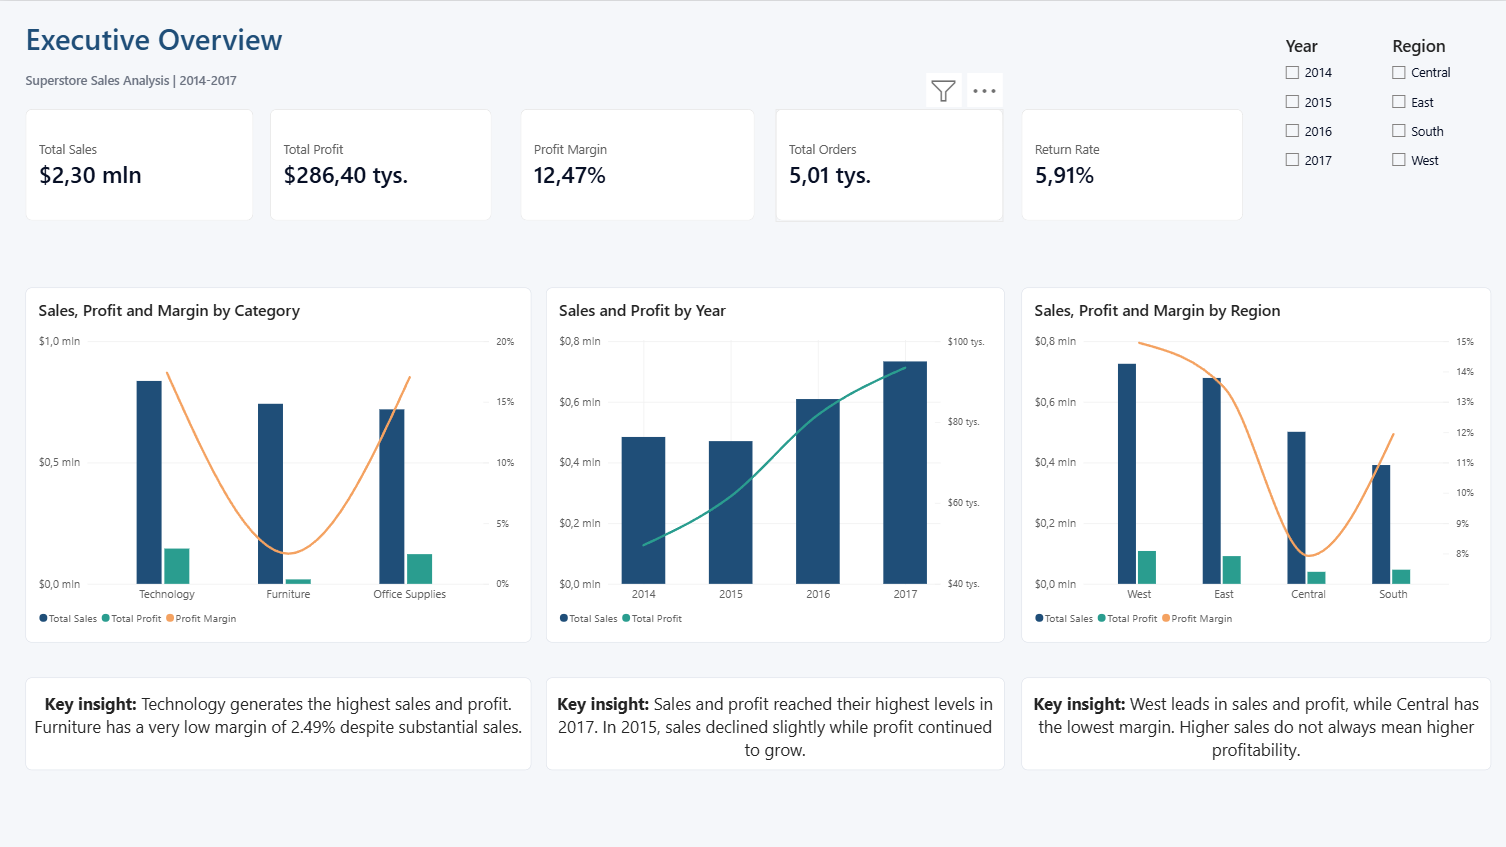

Layout of this report page (visuals, bound fields, positions):
{"tool":"powerbi","page":{"name":"Executive Overview","canvas":[1920,1080],"ordinal":0},"visuals":[{"type":"cardVisual","fields":{"Data":["_Measures.Total Sales"]},"box":[32,138,290,142],"z":0},{"type":"cardVisual","fields":{"Data":["_Measures.Total Profit"]},"box":[344,138,282,142],"z":1000},{"type":"cardVisual","fields":{"Data":["_Measures.Profit Margin"]},"box":[662,138,298,142],"z":2000},{"type":"cardVisual","fields":{"Data":["_Measures.Total Orders"]},"box":[988,138,290,142],"z":3000},{"type":"cardVisual","fields":{"Data":["_Measures.Return Rate"]},"box":[1300,138,282,142],"z":4000},{"type":"lineClusteredColumnComboChart","title":"Sales and Profit by Year","fields":{"Category":["Calendar.Year"],"Y":["_Measures.Total Sales"],"Y2":["_Measures.Total Profit"]},"box":[696,364,584,452],"z":5000},{"type":"lineClusteredColumnComboChart","title":"Sales, Profit and Margin by Region","fields":{"Category":["people.region"],"Y":["_Measures.Total Sales","_Measures.Total Profit"],"Y2":["_Measures.Profit Margin"]},"box":[1300,364,598,452],"z":6000},{"type":"lineClusteredColumnComboChart","title":"Sales, Profit and Margin by Category ","fields":{"Category":["orders.category"],"Y":["_Measures.Total Sales","_Measures.Total Profit"],"Y2":["_Measures.Profit Margin"]},"box":[32,364,644,452],"z":7000},{"type":"slicer","fields":{"Values":["Calendar.Year"]},"box":[1630,42,126,204],"z":8000},{"type":"slicer","fields":{"Values":["people.region"]},"box":[1764,42,130,198],"z":9000},{"type":"textbox","box":[32,22,416,96],"z":10000},{"type":"textbox","box":[32,862,644,118],"z":11000},{"type":"textbox","box":[696,862,584,118],"z":12000},{"type":"textbox","box":[1300,862,598,118],"z":13000}]}

Visuals, with their boxes in screenshot pixels (x1, y1, x2, y2), scaled from the page's 1920x1080 canvas onto the 1506x847 screenshot:
cardVisual - _Measures.Total Sales: l=25, t=108, r=253, b=220
cardVisual - _Measures.Total Profit: l=270, t=108, r=491, b=220
cardVisual - _Measures.Profit Margin: l=519, t=108, r=753, b=220
cardVisual - _Measures.Total Orders: l=775, t=108, r=1002, b=220
cardVisual - _Measures.Return Rate: l=1020, t=108, r=1241, b=220
"Sales and Profit by Year" lineClusteredColumnComboChart: l=546, t=285, r=1004, b=640
"Sales, Profit and Margin by Region" lineClusteredColumnComboChart: l=1020, t=285, r=1489, b=640
"Sales, Profit and Margin by Category " lineClusteredColumnComboChart: l=25, t=285, r=530, b=640
slicer - Calendar.Year: l=1279, t=33, r=1377, b=193
slicer - people.region: l=1384, t=33, r=1486, b=188
textbox: l=25, t=17, r=351, b=93
textbox: l=25, t=676, r=530, b=769
textbox: l=546, t=676, r=1004, b=769
textbox: l=1020, t=676, r=1489, b=769
